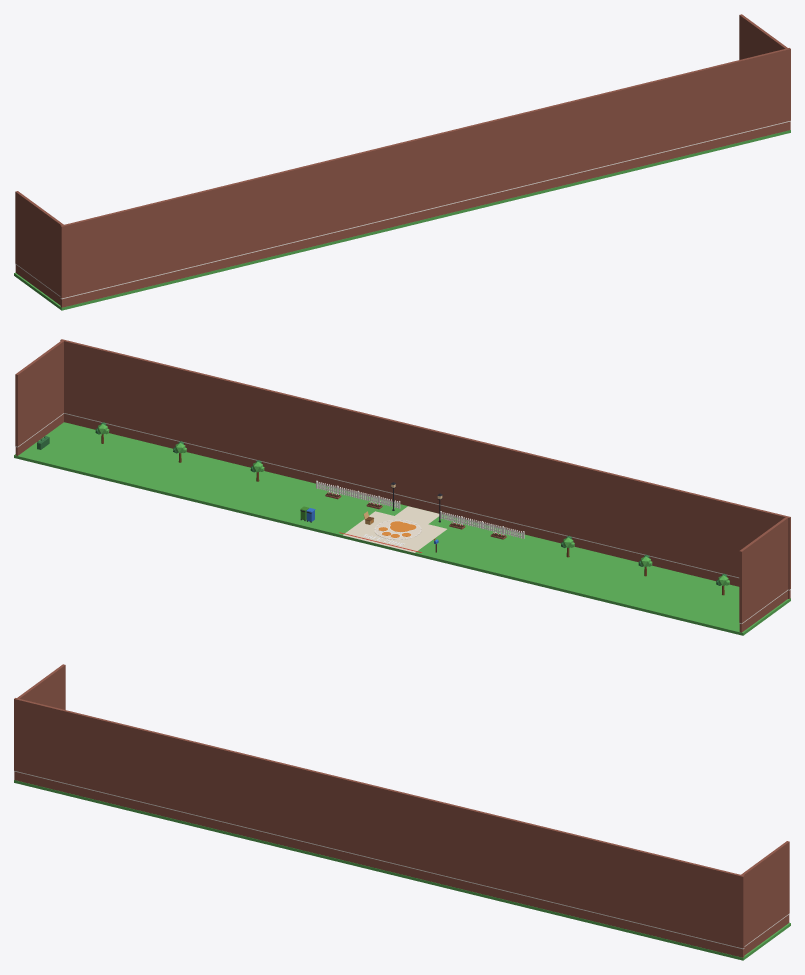
File: CatCafe_Camp_Neighbourhood.glb
3 renders of one model, top to bottom at view 1: azimuth 30°, elevation 25°; view 2: azimuth 150°, elevation 25°; view 3: azimuth 330°, elevation 25°, orthographic.
Parts seen in each view (by area): view 1: CatCafe_Camp_Neighbourhood_Barrier, CatCafe_Camp_Neighbourhood; view 2: CatCafe_Camp_Neighbourhood_Barrier, CatCafe_Camp_Neighbourhood; view 3: CatCafe_Camp_Neighbourhood_Barrier, CatCafe_Camp_Neighbourhood.
Boxes of the visible parts, left/top/right/bottom form: CatCafe_Camp_Neighbourhood_Barrier: left=15, top=14, right=790, bottom=298; CatCafe_Camp_Neighbourhood: left=14, top=120, right=790, bottom=310; CatCafe_Camp_Neighbourhood_Barrier: left=15, top=339, right=790, bottom=623; CatCafe_Camp_Neighbourhood: left=14, top=413, right=790, bottom=635; CatCafe_Camp_Neighbourhood_Barrier: left=14, top=664, right=789, bottom=948; CatCafe_Camp_Neighbourhood: left=14, top=770, right=790, bottom=960.
Bounding box in the file's own units: 282 × 31 × 32.
1 material, 1 textured.
